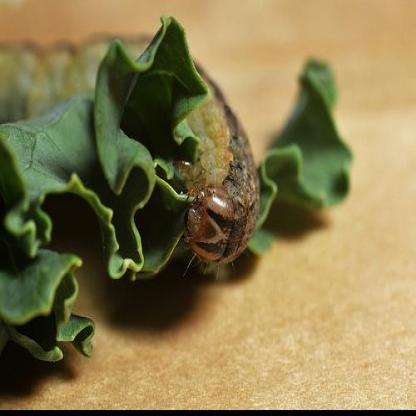armyworm: (0, 23, 265, 278)
